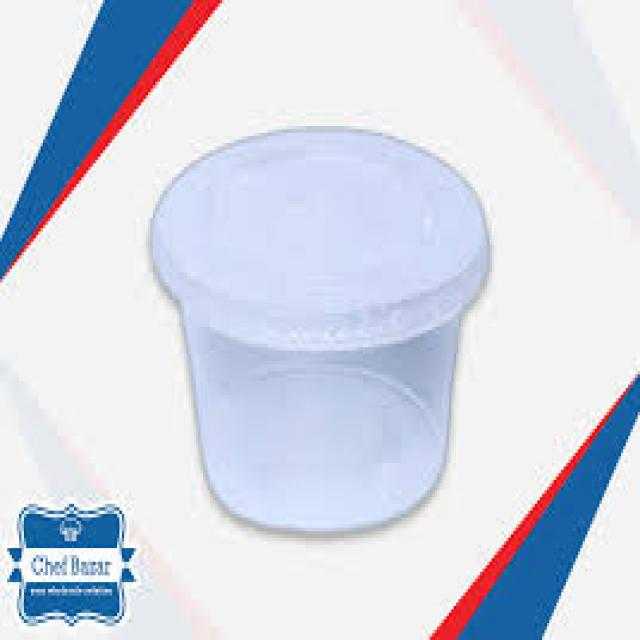disposable: (146, 112, 513, 542)
